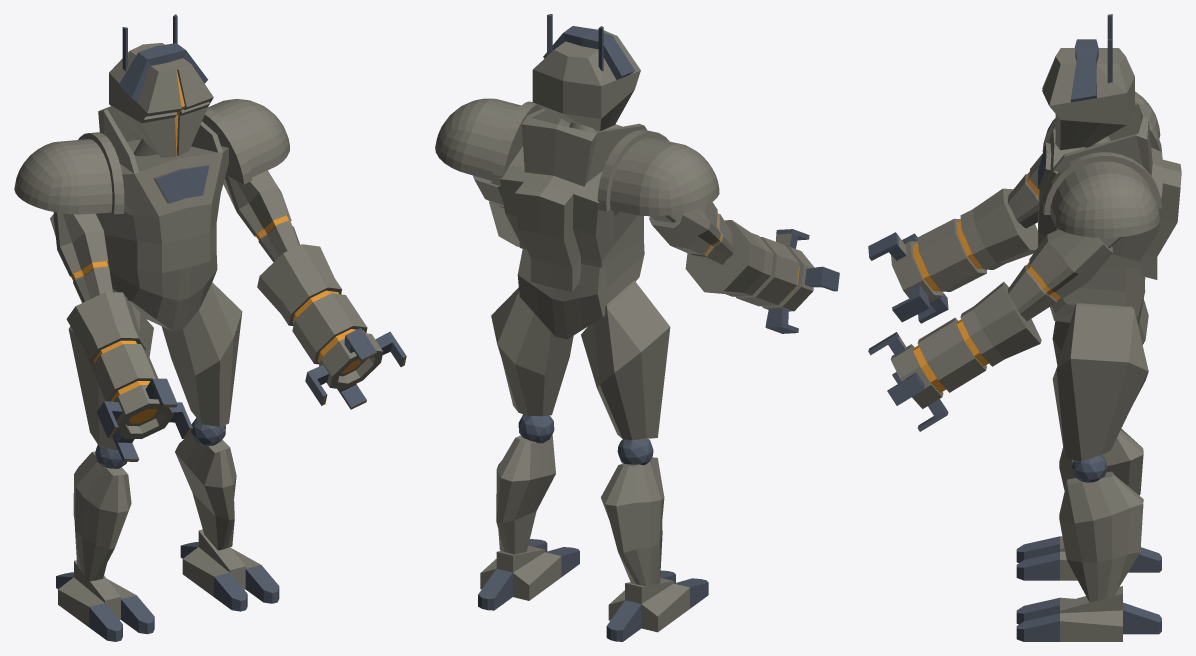
Rendered from borgInfantry.fbx.
The picture shows the model from 3 angles, left to right: view 1: azimuth 30°, elevation 25°; view 2: azimuth 150°, elevation 25°; view 3: azimuth 270°, elevation 25°; orthographic projection. The views are drawn at different scales.
Visible parts, largest first — view 1: Cube.026, Cube.024, Roundcube, Cube.021, Cube.020, Cube.029, Plane, Cube.025, Cube.023, Icosphere.004; view 2: Cube.024, Cube.020, Roundcube, Cube.021, Cube.026, Plane, Cube.029, Cube.023, Cube.025, Icosphere.004; view 3: Cube.026, Cube.020, Cube.021, Roundcube, Plane, Cube.029, Cube.024, Cube.025, Cube.023, Icosphere.004.
Boxes of the visible parts, bbox=[...] form: Cube.026: bbox=[66, 244, 406, 461]; Cube.024: bbox=[96, 106, 228, 272]; Roundcube: bbox=[14, 99, 289, 214]; Cube.021: bbox=[73, 431, 236, 581]; Cube.020: bbox=[68, 282, 242, 450]; Cube.029: bbox=[109, 14, 213, 157]; Plane: bbox=[56, 529, 279, 641]; Cube.025: bbox=[50, 170, 299, 302]; Cube.023: bbox=[106, 247, 217, 330]; Icosphere.004: bbox=[95, 418, 225, 468]; Cube.024: bbox=[500, 108, 646, 291]; Cube.020: bbox=[491, 280, 670, 440]; Roundcube: bbox=[435, 98, 719, 216]; Cube.021: bbox=[496, 434, 664, 585]; Cube.026: bbox=[489, 201, 839, 333]; Plane: bbox=[478, 539, 708, 641]; Cube.029: bbox=[532, 14, 640, 131]; Cube.023: bbox=[517, 237, 644, 339]; Cube.025: bbox=[473, 175, 733, 264]; Icosphere.004: bbox=[518, 414, 653, 465]; Cube.026: bbox=[868, 188, 1041, 431]; Cube.020: bbox=[1052, 299, 1148, 461]; Cube.021: bbox=[1059, 428, 1143, 602]; Roundcube: bbox=[1042, 91, 1162, 237]; Plane: bbox=[1016, 536, 1161, 641]; Cube.029: bbox=[1042, 14, 1134, 150]; Cube.024: bbox=[1037, 102, 1181, 279]; Cube.025: bbox=[1008, 154, 1121, 321]; Cube.023: bbox=[1050, 266, 1145, 326]; Icosphere.004: bbox=[1071, 455, 1107, 482].
Bounding box in the file's own units: 288 × 525 × 260.
3 materials, 2 textured.
